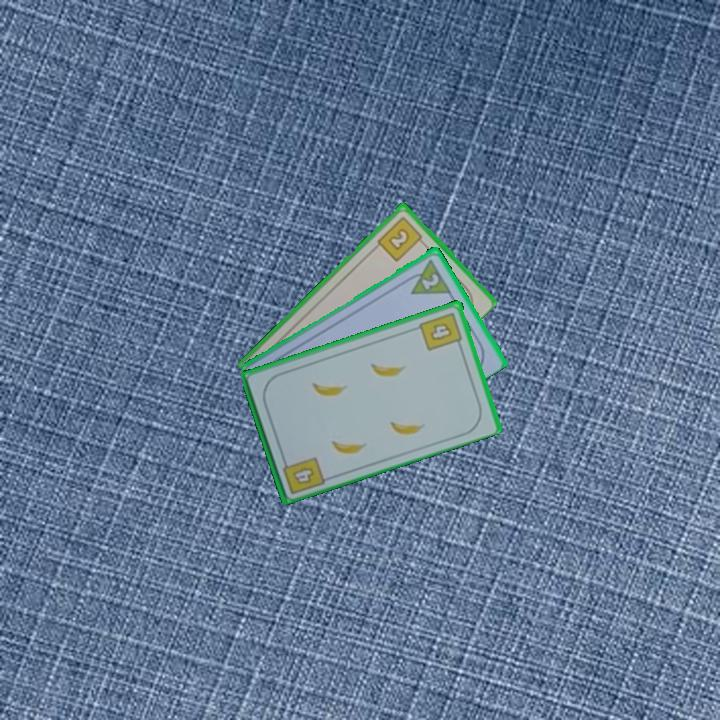2b: (374, 212, 428, 264)
2p: (418, 269, 442, 292)
4b: (416, 308, 465, 353), (278, 453, 327, 497)
